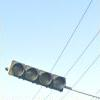traffic lights: (5, 60, 67, 92)
